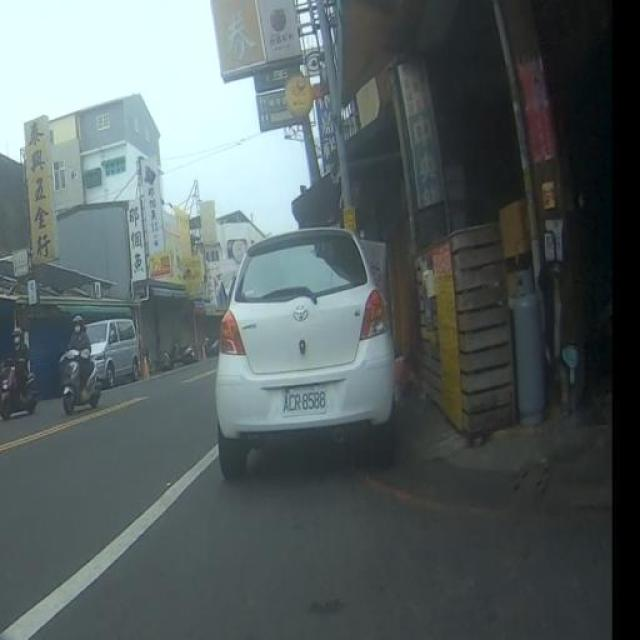Legalparking: (90, 320, 140, 385)
illegalparking: (214, 228, 394, 480)
